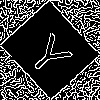Y: (25, 25, 81, 80)
